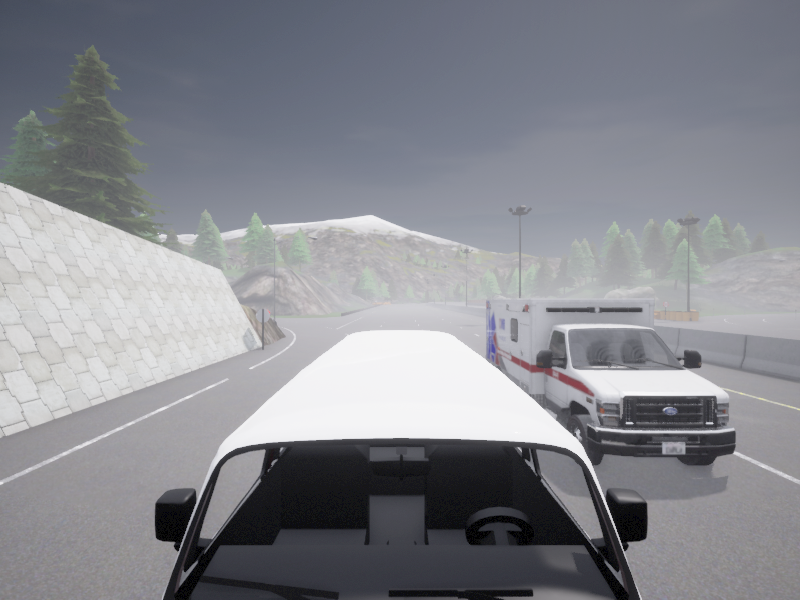vehicle: (155, 330, 647, 599), (486, 299, 735, 465)
